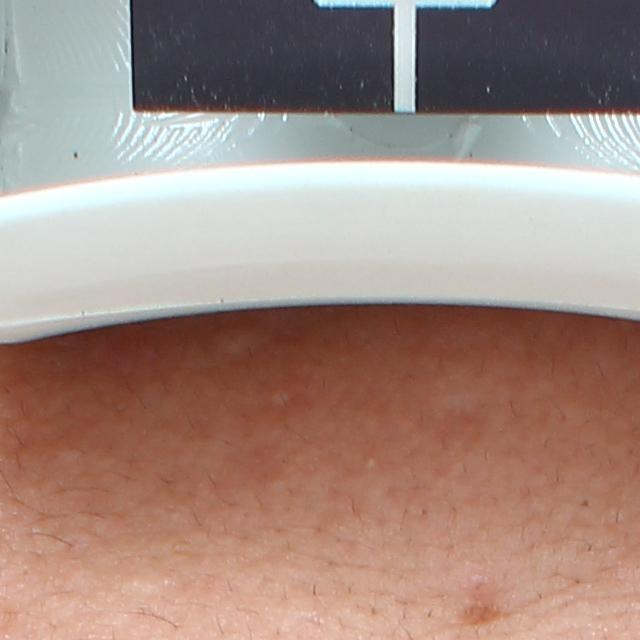atrophic_scar: (454, 567, 508, 633)
comedo: (574, 493, 597, 514), (364, 452, 382, 472)
